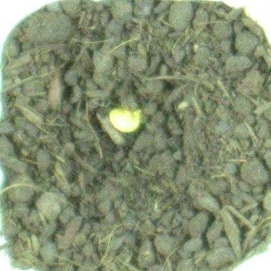chilli seed: (107, 107, 142, 133)
